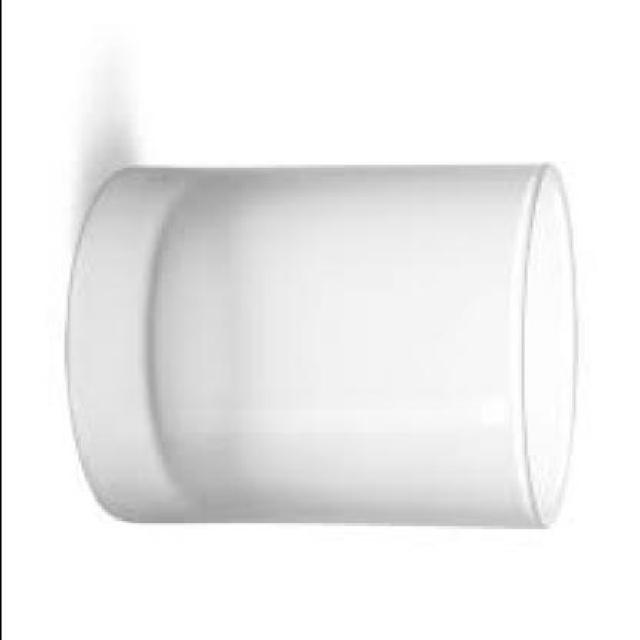GLASS: (66, 162, 577, 521)
